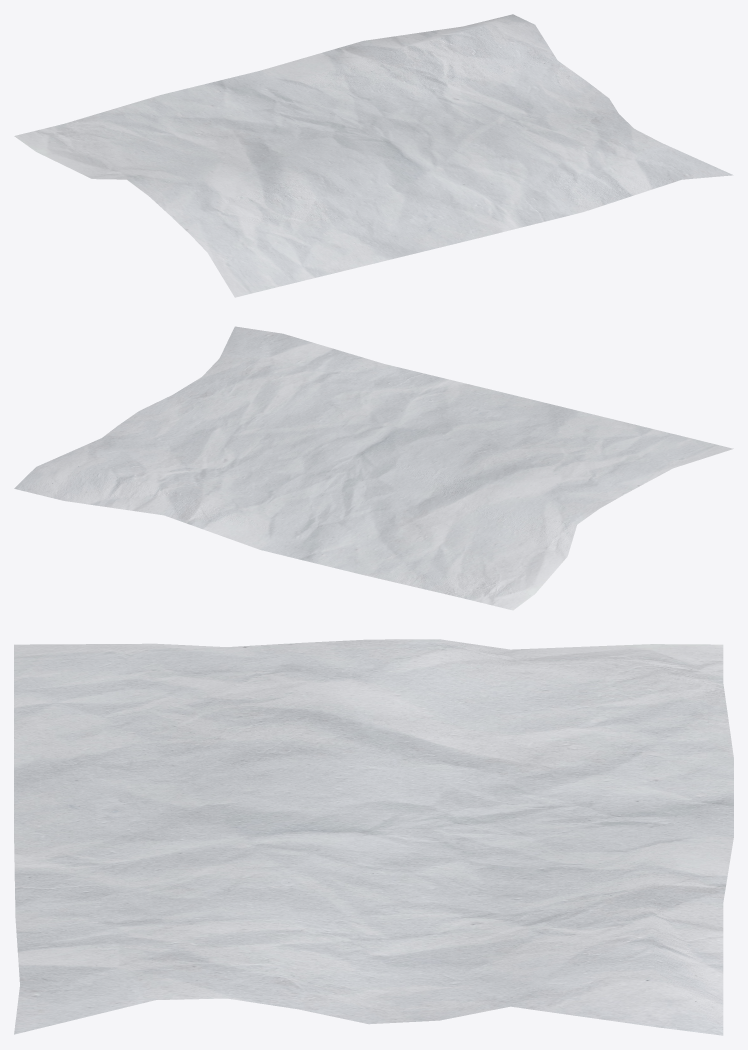
The model's file is Paper.fbx.
3 views of the same model, one above another, from view 1: azimuth 30°, elevation 25°; view 2: azimuth 150°, elevation 25°; view 3: azimuth 270°, elevation 25° (orthographic). The views are drawn at different scales.
Parts seen in each view (by area): view 1: pPlane1; view 2: pPlane1; view 3: pPlane1.
Boxes of the visible parts, x1,y1,x2,y2 form: pPlane1: (14,14,733,297); pPlane1: (14,326,733,610); pPlane1: (14,639,733,1035).
Bounding box in the file's own units: 39.55 × 1.38 × 30.77.
1 material, 1 textured.
